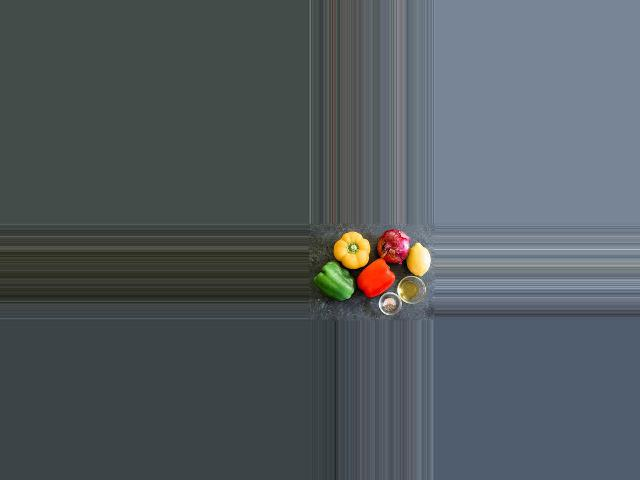bell_pepper: (357, 257, 394, 298)
